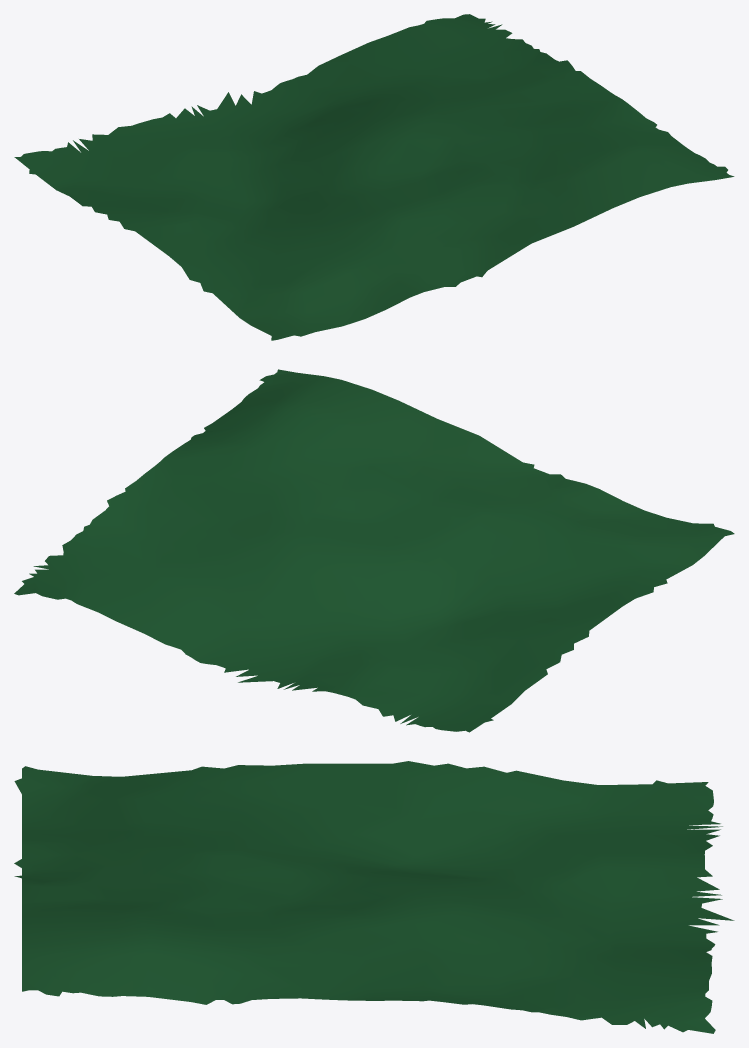
File: payo_land_x3_y3_lod2.glb
3 renders of one model, top to bottom at view 1: azimuth 30°, elevation 25°; view 2: azimuth 150°, elevation 25°; view 3: azimuth 270°, elevation 25°, orthographic. The views are drawn at different scales.
Parts seen in each view (by area): view 1: payo_land_x3_y3; view 2: payo_land_x3_y3; view 3: payo_land_x3_y3.
Boxes of the visible parts, box(x1,y1,x2,y2) form: payo_land_x3_y3: box(14, 14, 734, 340); payo_land_x3_y3: box(14, 369, 734, 732); payo_land_x3_y3: box(14, 761, 734, 1033).
Size of the model in its own units: 262 by 41.16 by 268.
